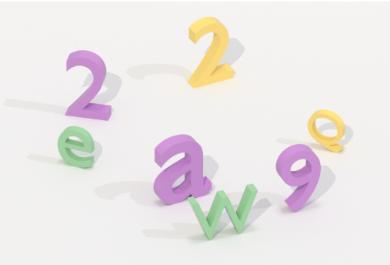2: (61, 48, 115, 124), (187, 15, 237, 89)
9: (274, 140, 322, 216)
Q: (305, 104, 352, 156)
W: (184, 183, 260, 243)
a: (151, 129, 214, 206)
e: (55, 123, 98, 171)
